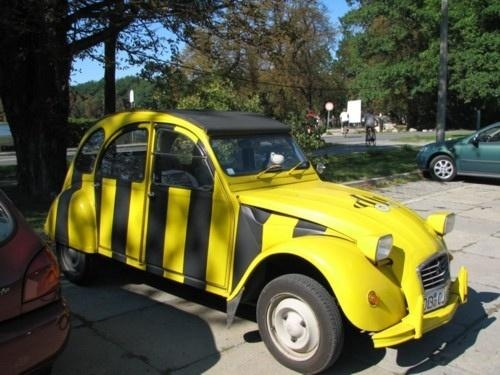car: (43, 110, 468, 375), (2, 189, 73, 375), (418, 121, 500, 183)
